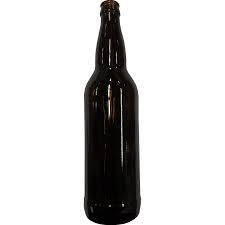beer: (84, 1, 141, 225)
